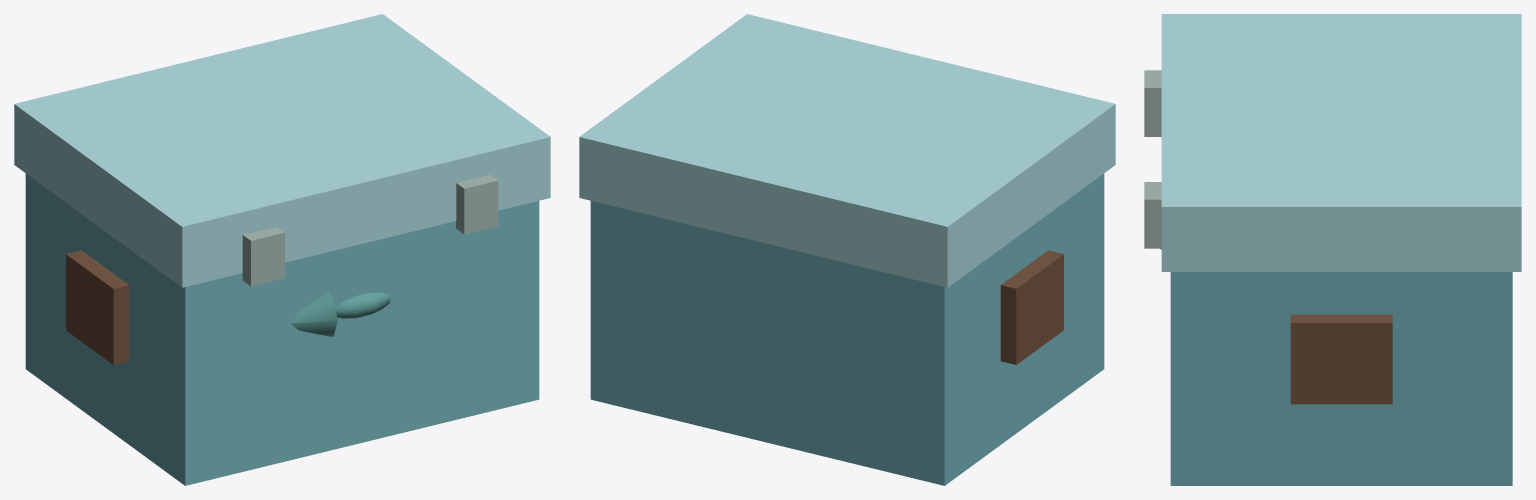
File: insulated-box.glb
The picture shows the model from 3 angles, left to right: view 1: azimuth 30°, elevation 25°; view 2: azimuth 150°, elevation 25°; view 3: azimuth 270°, elevation 25°; orthographic projection. The views are drawn at different scales.
Parts seen in each view (by area): view 1: insulated-box_iceDark, insulated-box_ice, insulated-box_woodDark, insulated-box_metal, insulated-box_teal; view 2: insulated-box_iceDark, insulated-box_ice, insulated-box_woodDark; view 3: insulated-box_ice, insulated-box_iceDark, insulated-box_woodDark, insulated-box_metal.
Part boxes in pixels (x1,y1,x2,y2): insulated-box_iceDark: (25,173,539,485); insulated-box_ice: (14,14,550,287); insulated-box_woodDark: (66,250,129,364); insulated-box_metal: (242,174,498,286); insulated-box_teal: (290,291,390,336); insulated-box_iceDark: (590,173,1104,485); insulated-box_ice: (579,14,1115,287); insulated-box_woodDark: (1000,250,1063,364); insulated-box_ice: (1161,14,1521,271); insulated-box_iceDark: (1170,272,1512,485); insulated-box_woodDark: (1290,314,1392,404); insulated-box_metal: (1144,70,1161,248).
Bounding box in the file's own units: 0.795 × 0.52 × 0.629.
